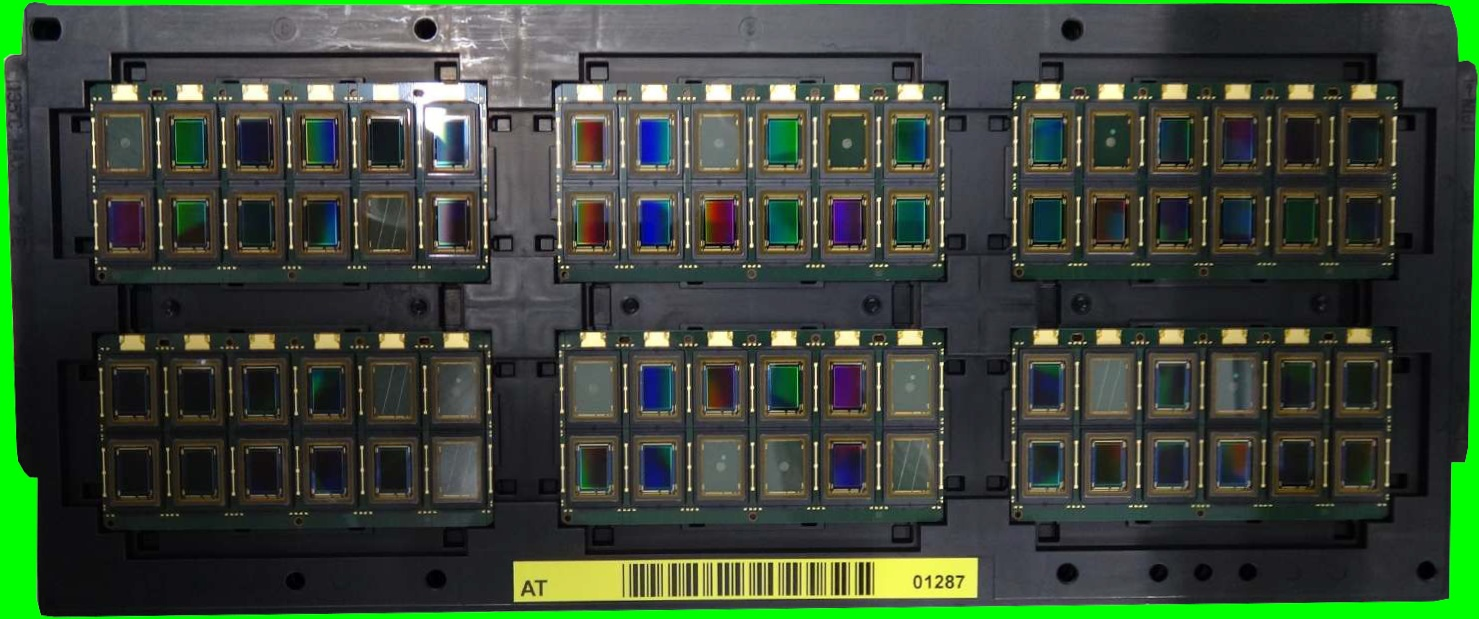Bad_mark_from_BMS_mold: (361, 352, 420, 426), (356, 189, 417, 259), (1082, 349, 1138, 421), (884, 430, 937, 498), (429, 435, 482, 500)
Bad_mark_from_Maker: (92, 104, 154, 179), (690, 103, 747, 182), (1206, 350, 1264, 419), (1085, 104, 1140, 175), (565, 351, 620, 420), (882, 350, 937, 418), (822, 101, 870, 177), (694, 434, 749, 500), (758, 434, 812, 500), (428, 354, 479, 423)
